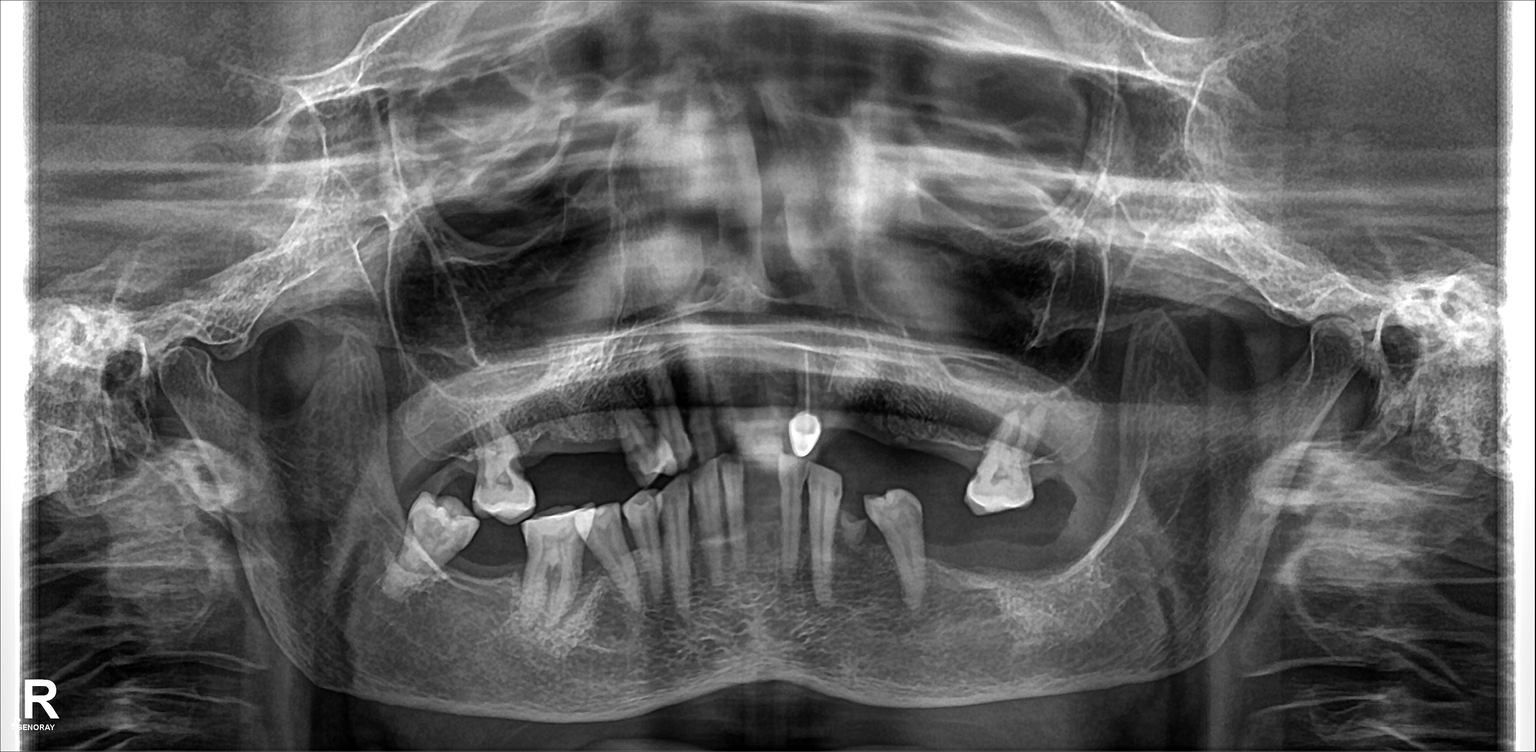Endodontically Treated Tooth: (784, 361, 824, 465)
Missing Tooth: (469, 514, 532, 620), (430, 408, 480, 489), (1006, 525, 1049, 614), (521, 404, 566, 487), (574, 395, 623, 471), (872, 383, 913, 463), (391, 402, 429, 483), (980, 519, 1013, 603), (937, 508, 968, 594), (829, 380, 867, 450), (1061, 523, 1094, 603), (1078, 424, 1110, 499), (1041, 434, 1070, 506), (926, 389, 952, 468), (959, 398, 980, 462)
Retained Root: (840, 497, 872, 572)
